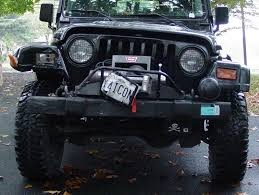Dent: (16, 46, 64, 75)
Scratch: (28, 96, 56, 113)
